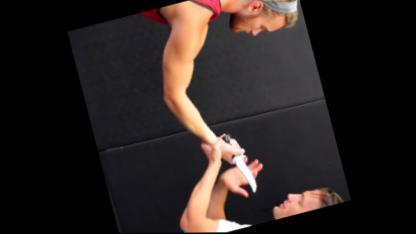knife: (218, 125, 264, 200)
